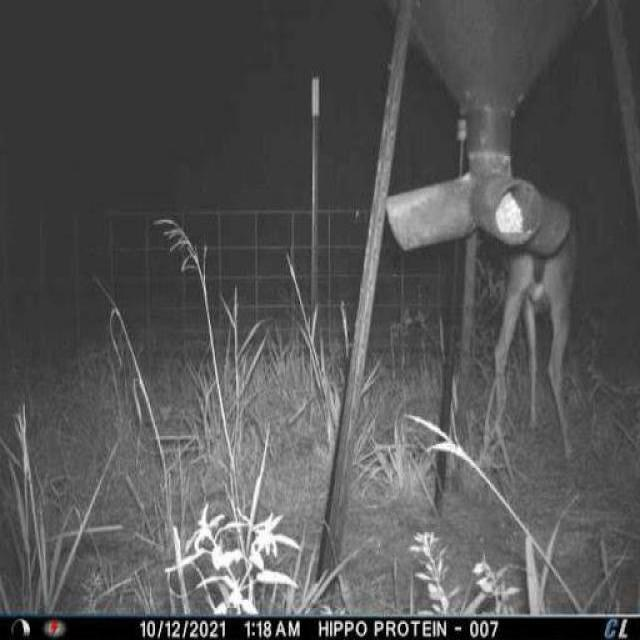deer: (482, 175, 586, 470)
